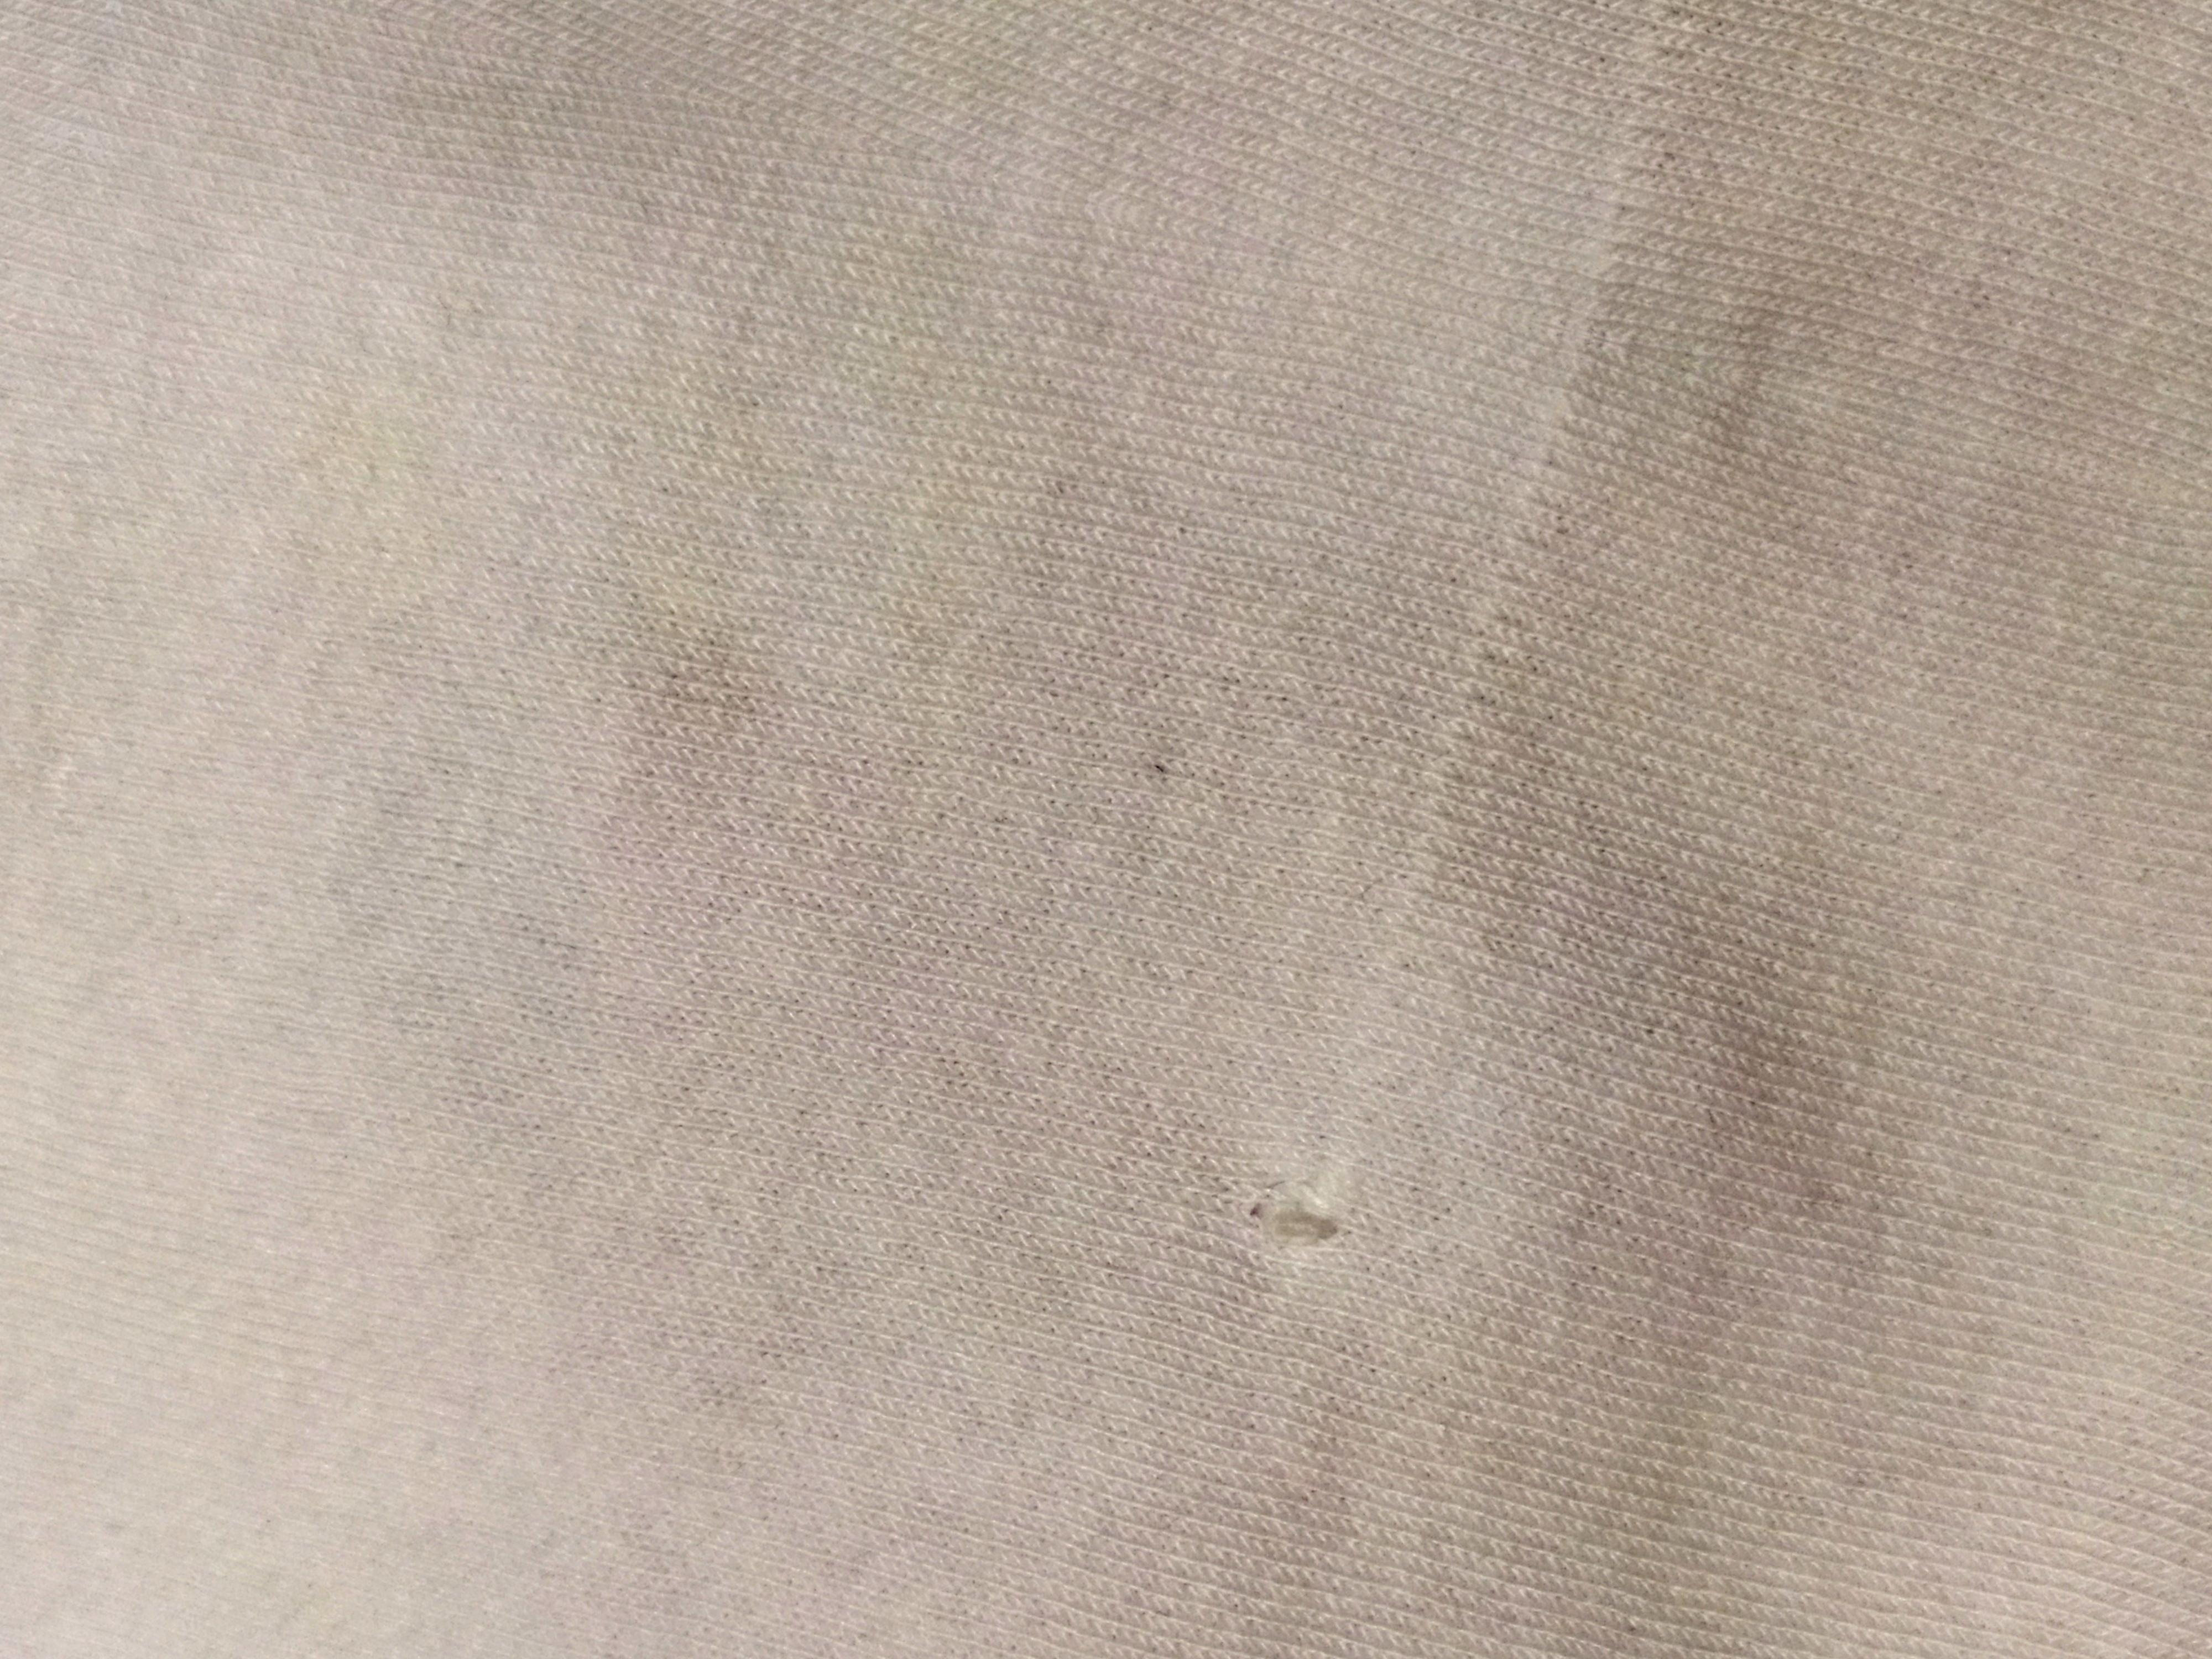knot: (1223, 1162, 1374, 1279)
